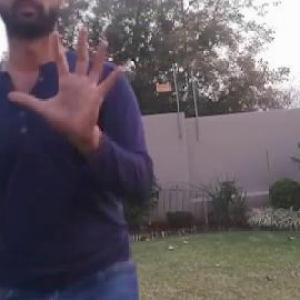follow_hand: (6, 21, 131, 142)
